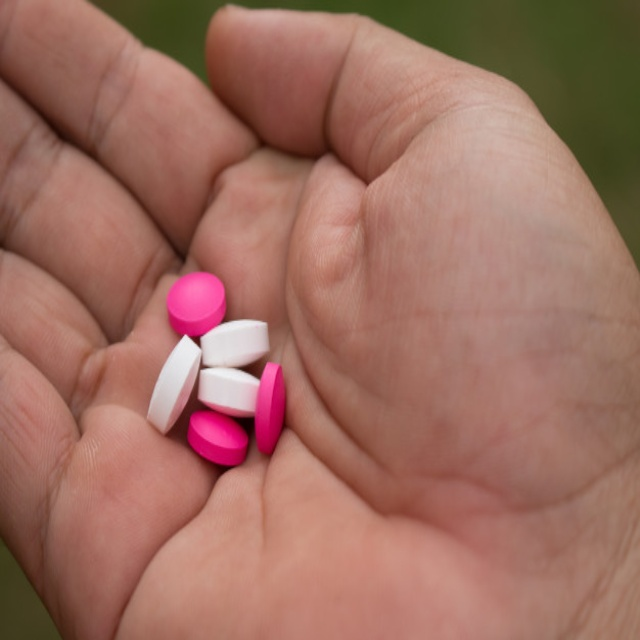pill: (141, 216, 198, 282), (160, 176, 222, 216), (185, 264, 243, 303), (196, 208, 265, 239), (194, 240, 257, 271), (252, 233, 281, 299)
